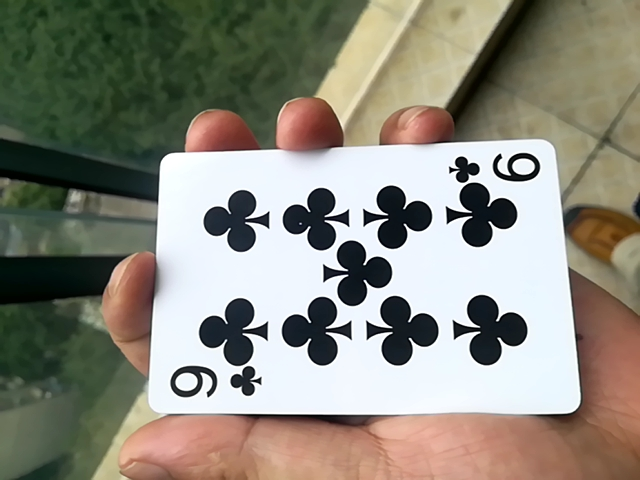mh 9: (129, 138, 579, 427)
